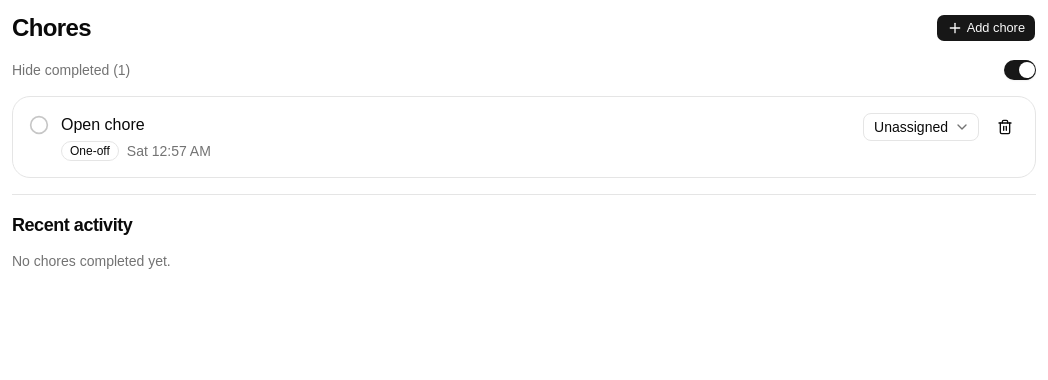
Test: ChoresPage › shows completed chores once the toggle is switched off
Click the switch at {"x": 1020, "y": 70}, box [1004,60,1036,80]
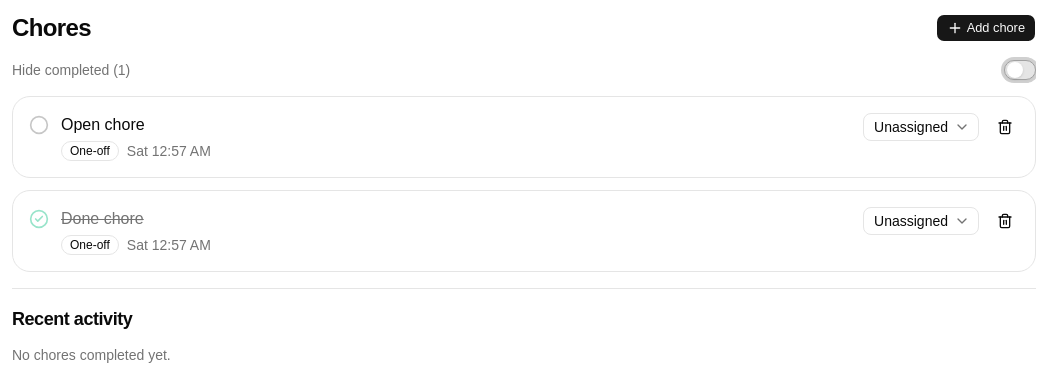
Expected: the text "Done chore" is shown, [61,210,144,227]
